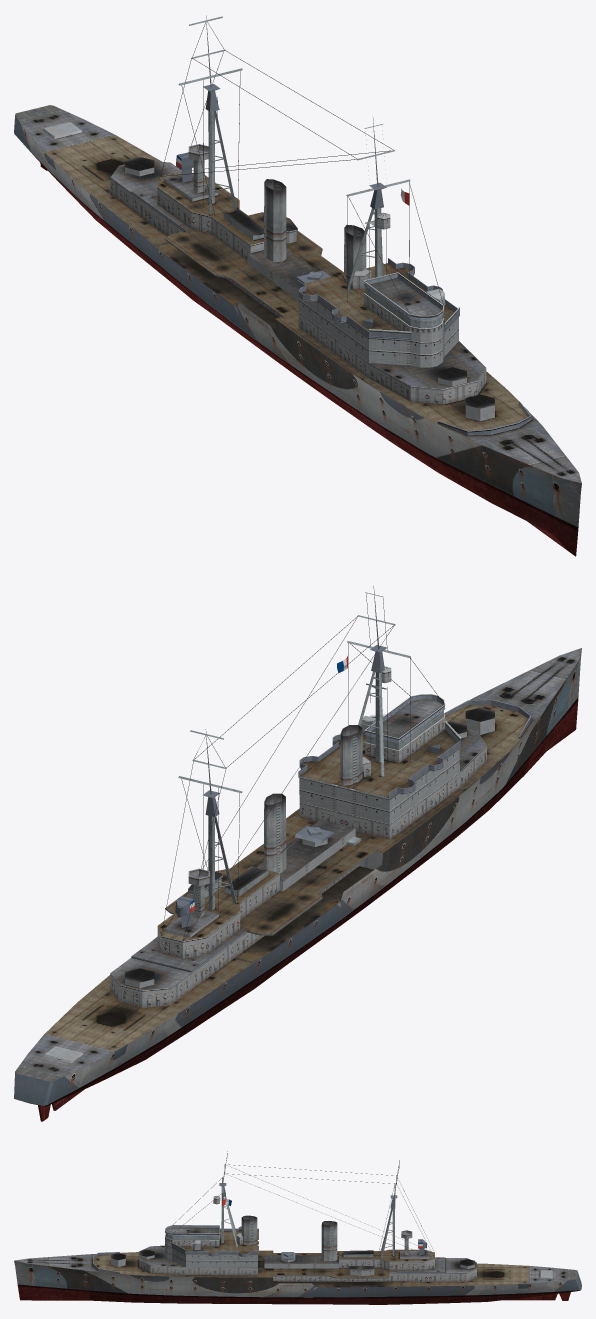
Rendered from Ship_1.FBX.
3 views of the same model, one above another, from view 1: azimuth 30°, elevation 25°; view 2: azimuth 150°, elevation 25°; view 3: azimuth 270°, elevation 25° (orthographic). The views are drawn at different scales.
Visible parts, largest first — view 1: Ship_1; view 2: Ship_1; view 3: Ship_1.
Part boxes in pixels (x1=…): Ship_1: x1=14, y1=15, x2=581, y2=556; Ship_1: x1=14, y1=586, x2=581, y2=1121; Ship_1: x1=14, y1=1151, x2=581, y2=1304.
Bounding box in the file's own units: 18.09 × 45.63 × 155.
1 material, 1 textured.
